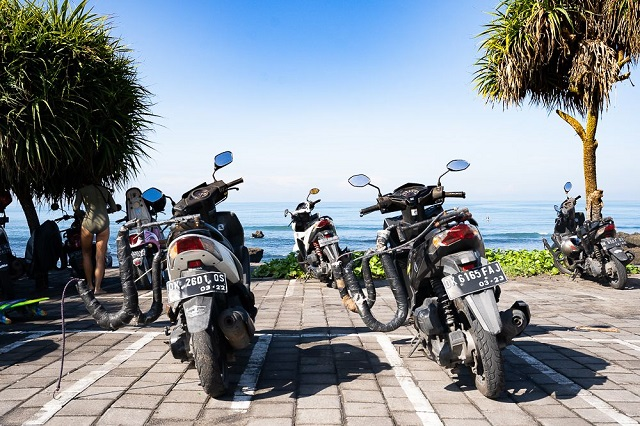bike: (348, 159, 526, 397), (159, 153, 258, 393), (543, 181, 635, 290), (284, 186, 344, 285)
person: (74, 179, 113, 296)
tree: (486, 1, 634, 178), (1, 12, 50, 220)
